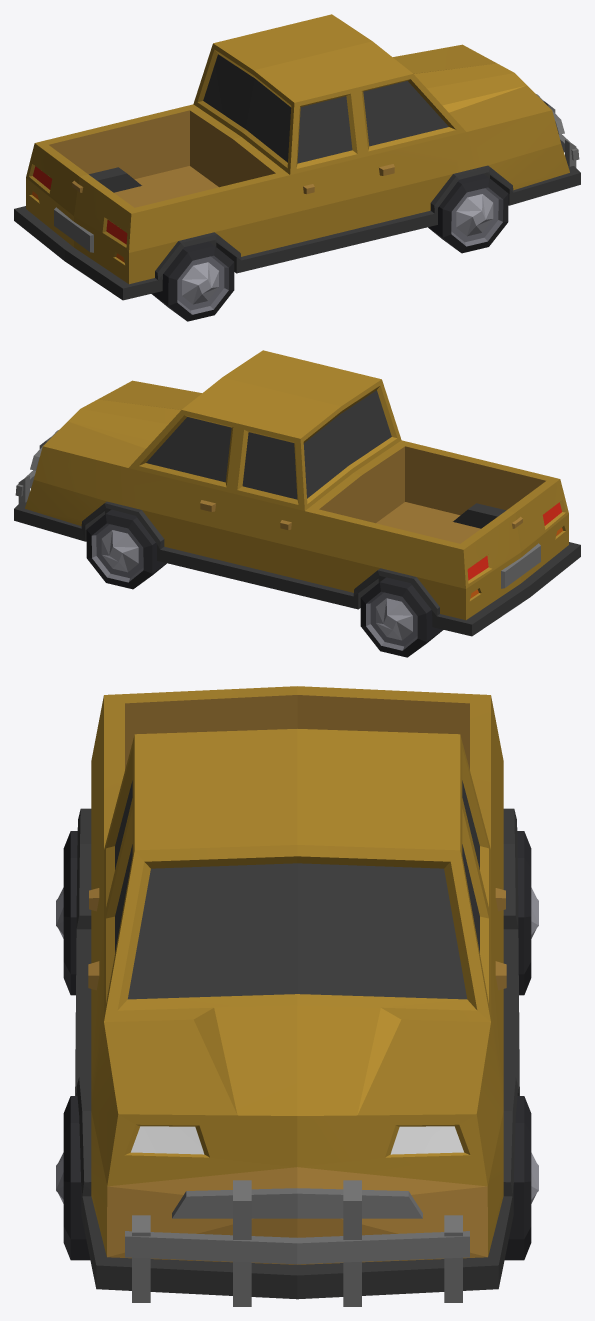
The model's file is car5.fbx.
The picture shows the model from 3 angles, top to bottom: view 1: azimuth 30°, elevation 25°; view 2: azimuth 150°, elevation 25°; view 3: azimuth 270°, elevation 25°; orthographic projection. The views are drawn at different scales.
Visible parts, largest first — view 1: car5, car5_wheels_B, car5_wheels_F; view 2: car5, car5_wheels_B, car5_wheels_F; view 3: car5, car5_wheels_F, car5_wheels_B.
Part boxes in pixels (x1,y1,x2,y2): car5: (14, 14, 580, 300); car5_wheels_B: (151, 241, 234, 321); car5_wheels_F: (428, 173, 508, 253); car5: (14, 350, 580, 636); car5_wheels_B: (360, 577, 443, 657); car5_wheels_F: (86, 509, 166, 589); car5: (75, 686, 519, 1306); car5_wheels_F: (56, 1096, 538, 1260); car5_wheels_B: (56, 831, 538, 995).
Bounding box in the file's own units: 705 × 254 × 309.
